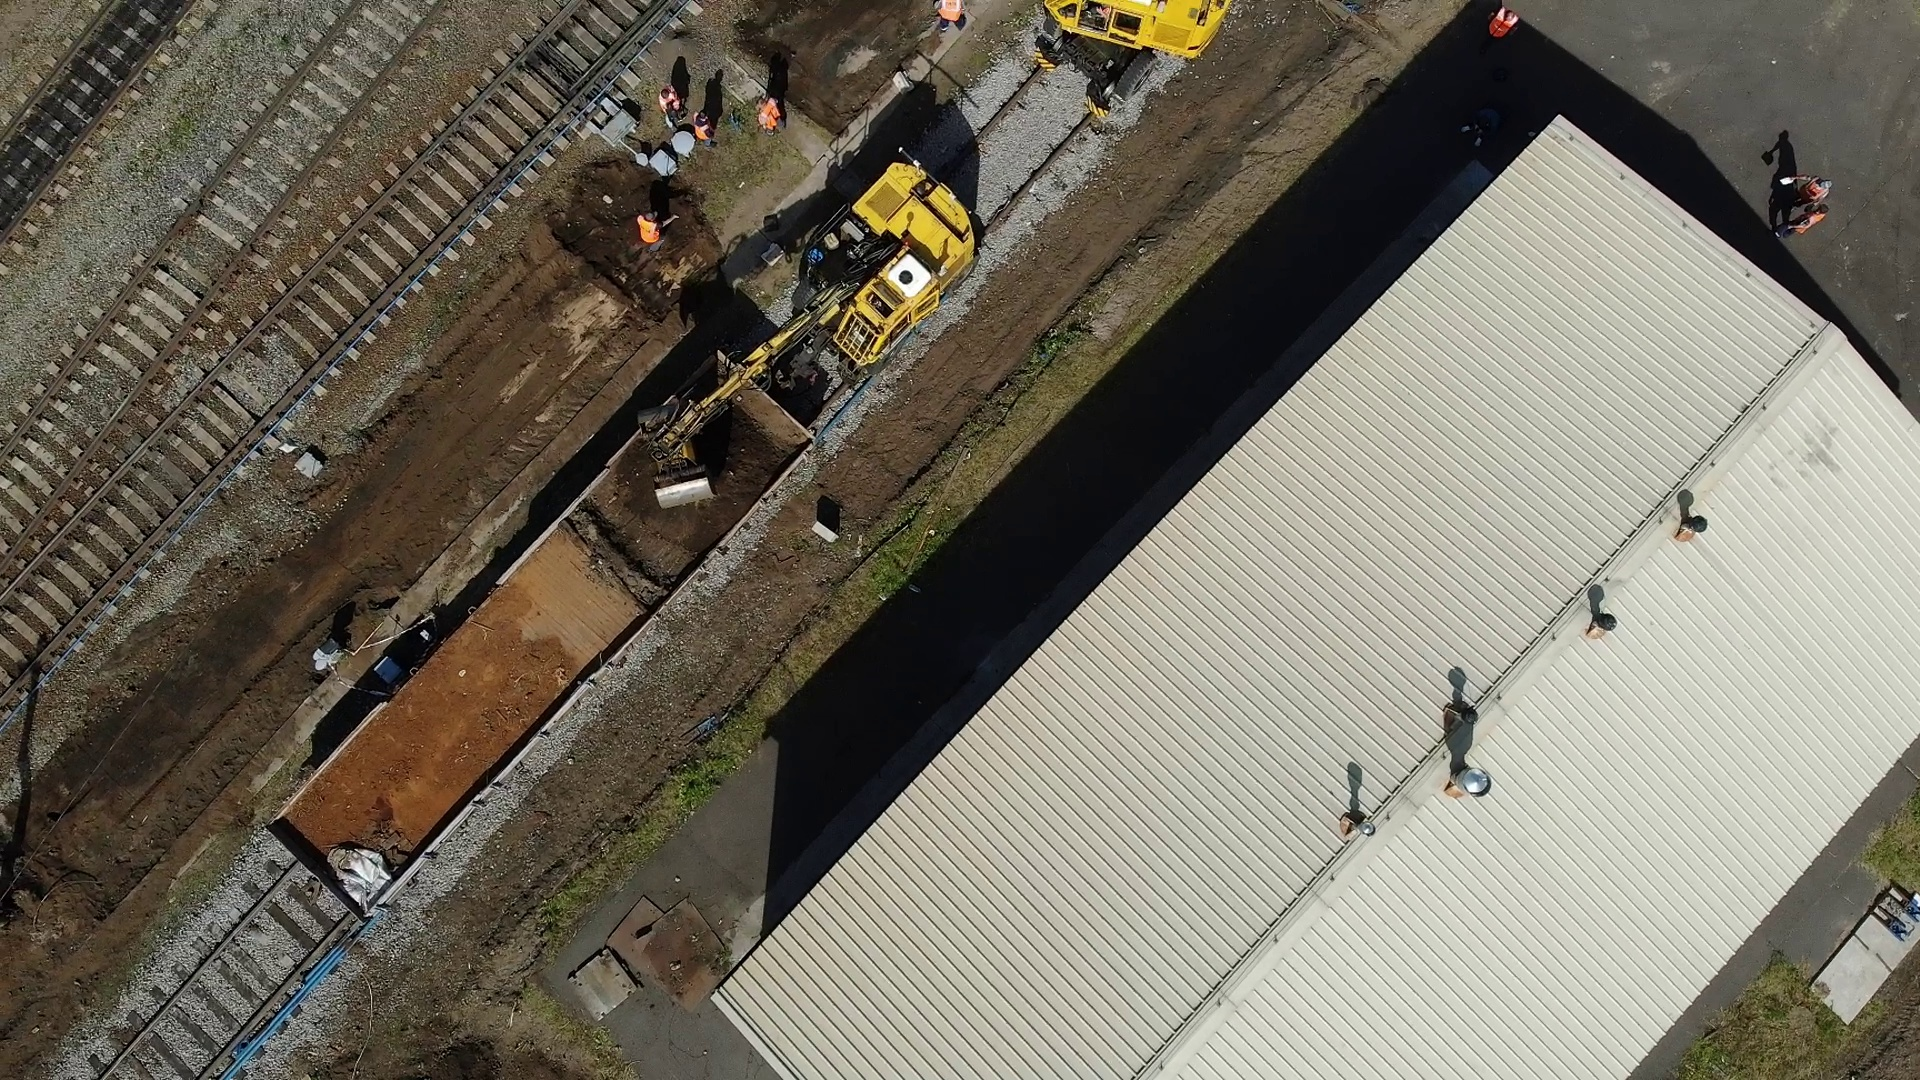kjtv: (761, 158, 987, 363), (1022, 1, 1234, 108)
